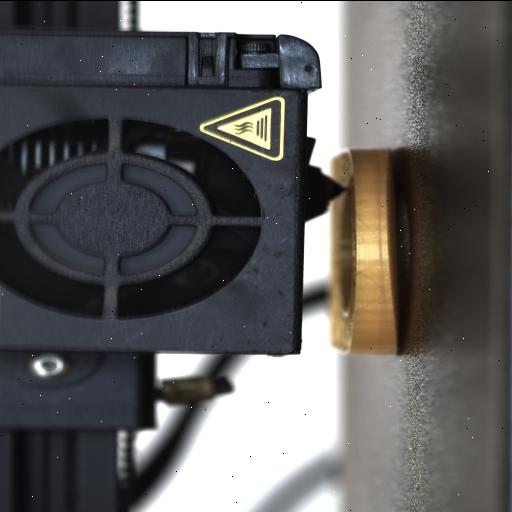warp: (372, 146, 418, 354)
